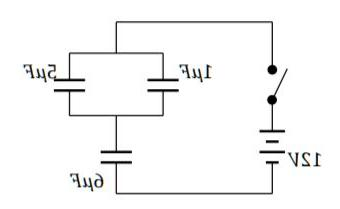Capacitor: (92, 138, 138, 170)
